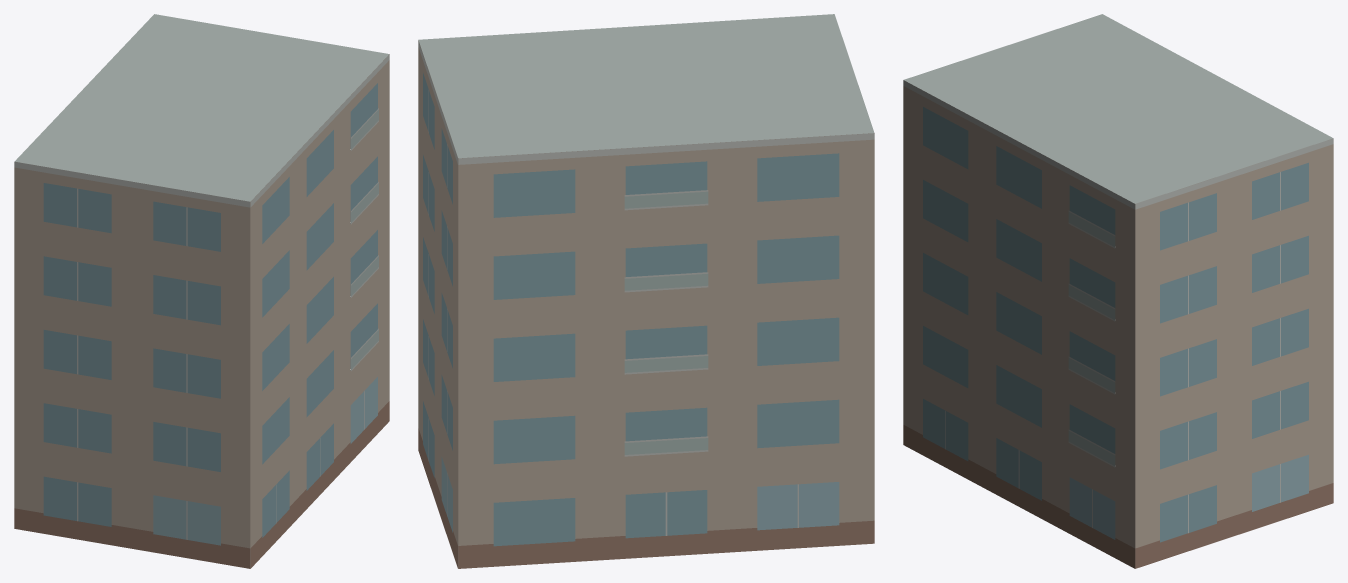
Rendered from survey-upis-32605651.glb.
The picture shows the model from 3 angles, left to right: view 1: azimuth 30°, elevation 25°; view 2: azimuth 150°, elevation 25°; view 3: azimuth 270°, elevation 25°; orthographic projection. The views are drawn at different scales.
Parts seen in each view (by area): view 1: survey-upis-32605651.tmp; view 2: survey-upis-32605651.tmp; view 3: survey-upis-32605651.tmp.
Boxes of the visible parts, x1,y1,x2,y2 form: survey-upis-32605651.tmp: [14, 14, 389, 568]; survey-upis-32605651.tmp: [418, 14, 874, 568]; survey-upis-32605651.tmp: [903, 14, 1333, 568].
Bounding box in the file's own units: 17.03 × 15.25 × 16.3.
